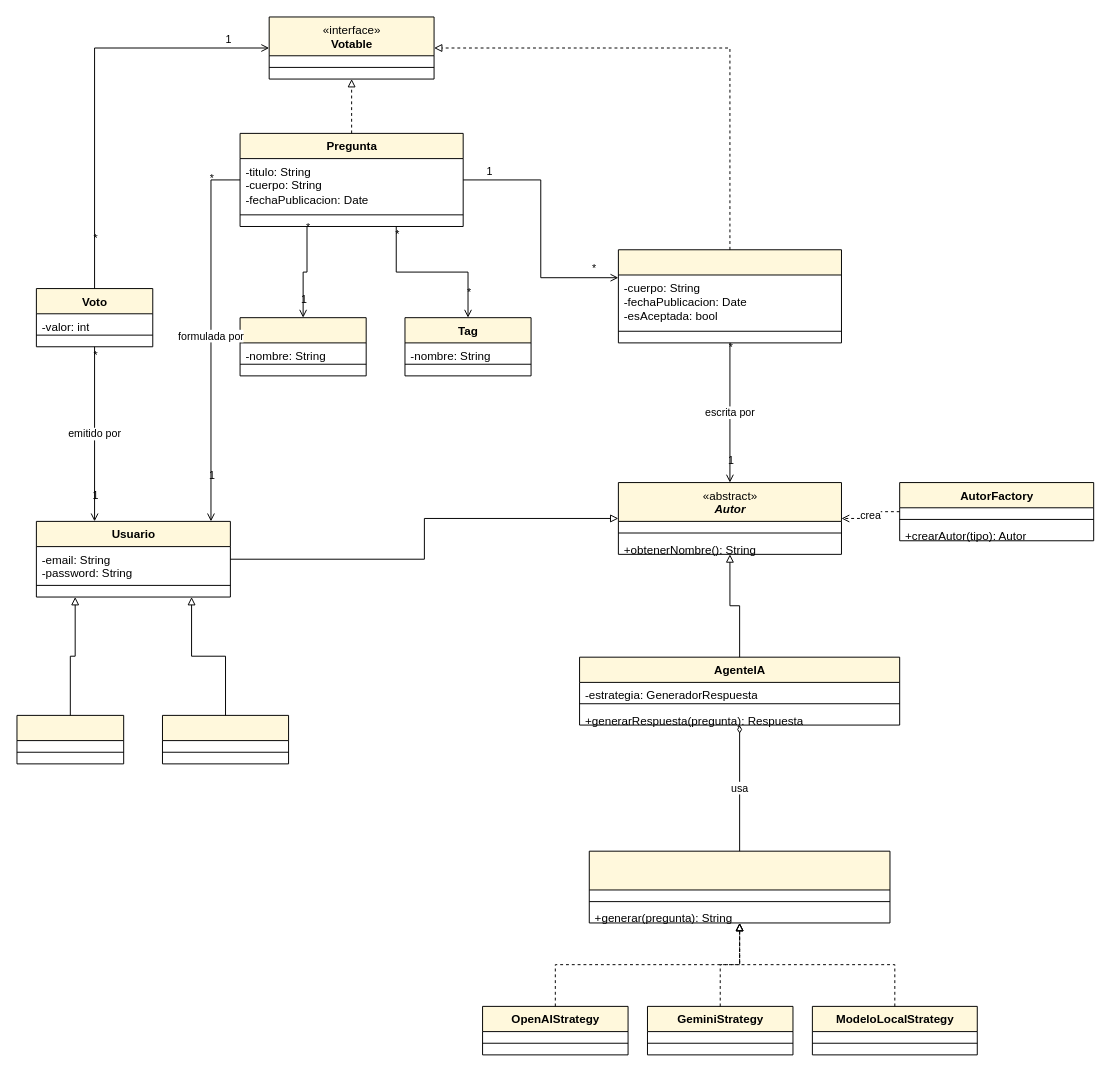
This 1111x1072 diagram has some shape labels left out. The box of each missing label's shape, as (x1, y1, x2, y2) in pixels:
Admin: (16, 714, 124, 764)
Categoria: (239, 317, 366, 376)
Respuesta: (617, 249, 841, 343)
UsuarioGeneral: (162, 714, 289, 764)
«interface» GeneradorRespuesta: (588, 850, 890, 923)
